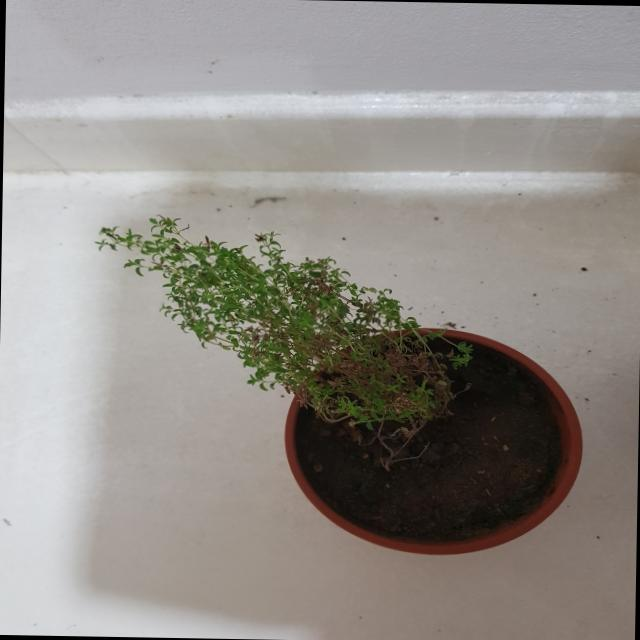Thyme: (66, 192, 483, 459)
